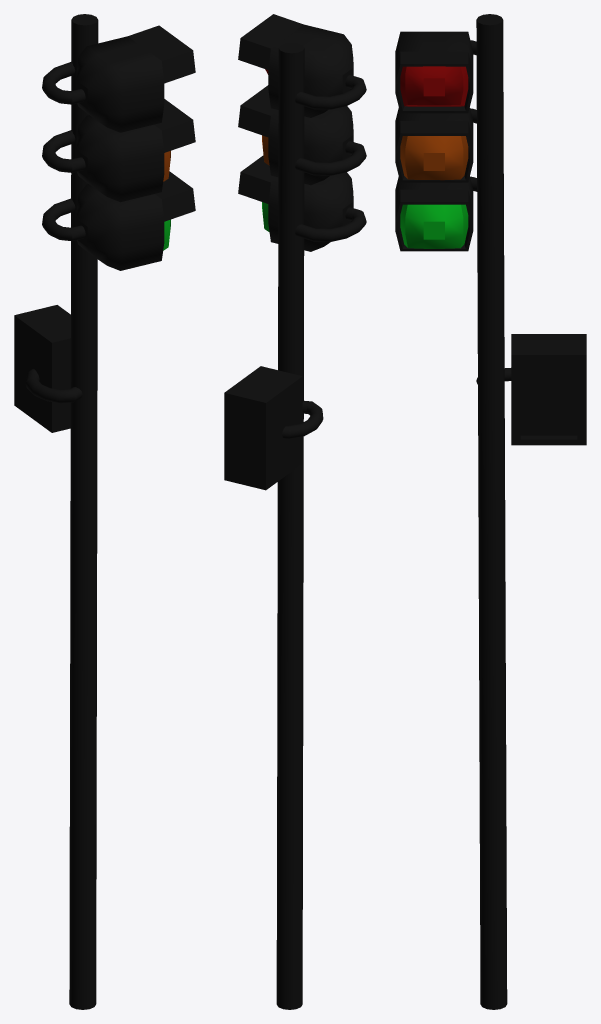
File: MOD_Feu.FBX
3 renders of one model, left to right at view 1: azimuth 30°, elevation 25°; view 2: azimuth 150°, elevation 25°; view 3: azimuth 270°, elevation 25°, orthographic. The views are drawn at different scales.
Visible parts, largest first — view 1: Feu; view 2: Feu; view 3: Feu.
Part boxes in pixels (<box>): Feu: <box>14,14,195,1009</box>; Feu: <box>224,14,366,1009</box>; Feu: <box>395,14,586,1009</box>.
Bounding box in the file's own units: 13.74 × 109 × 19.27.
